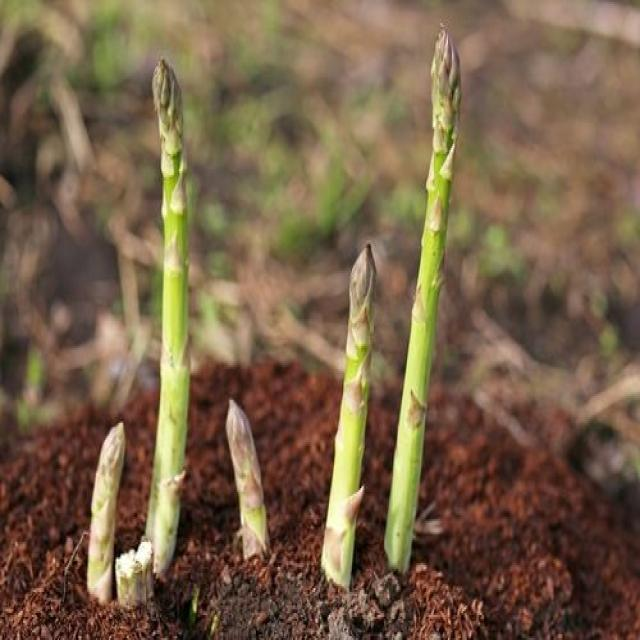aspargus: (386, 28, 461, 578), (149, 60, 191, 576), (322, 246, 377, 588), (86, 422, 129, 607), (225, 400, 270, 559)
